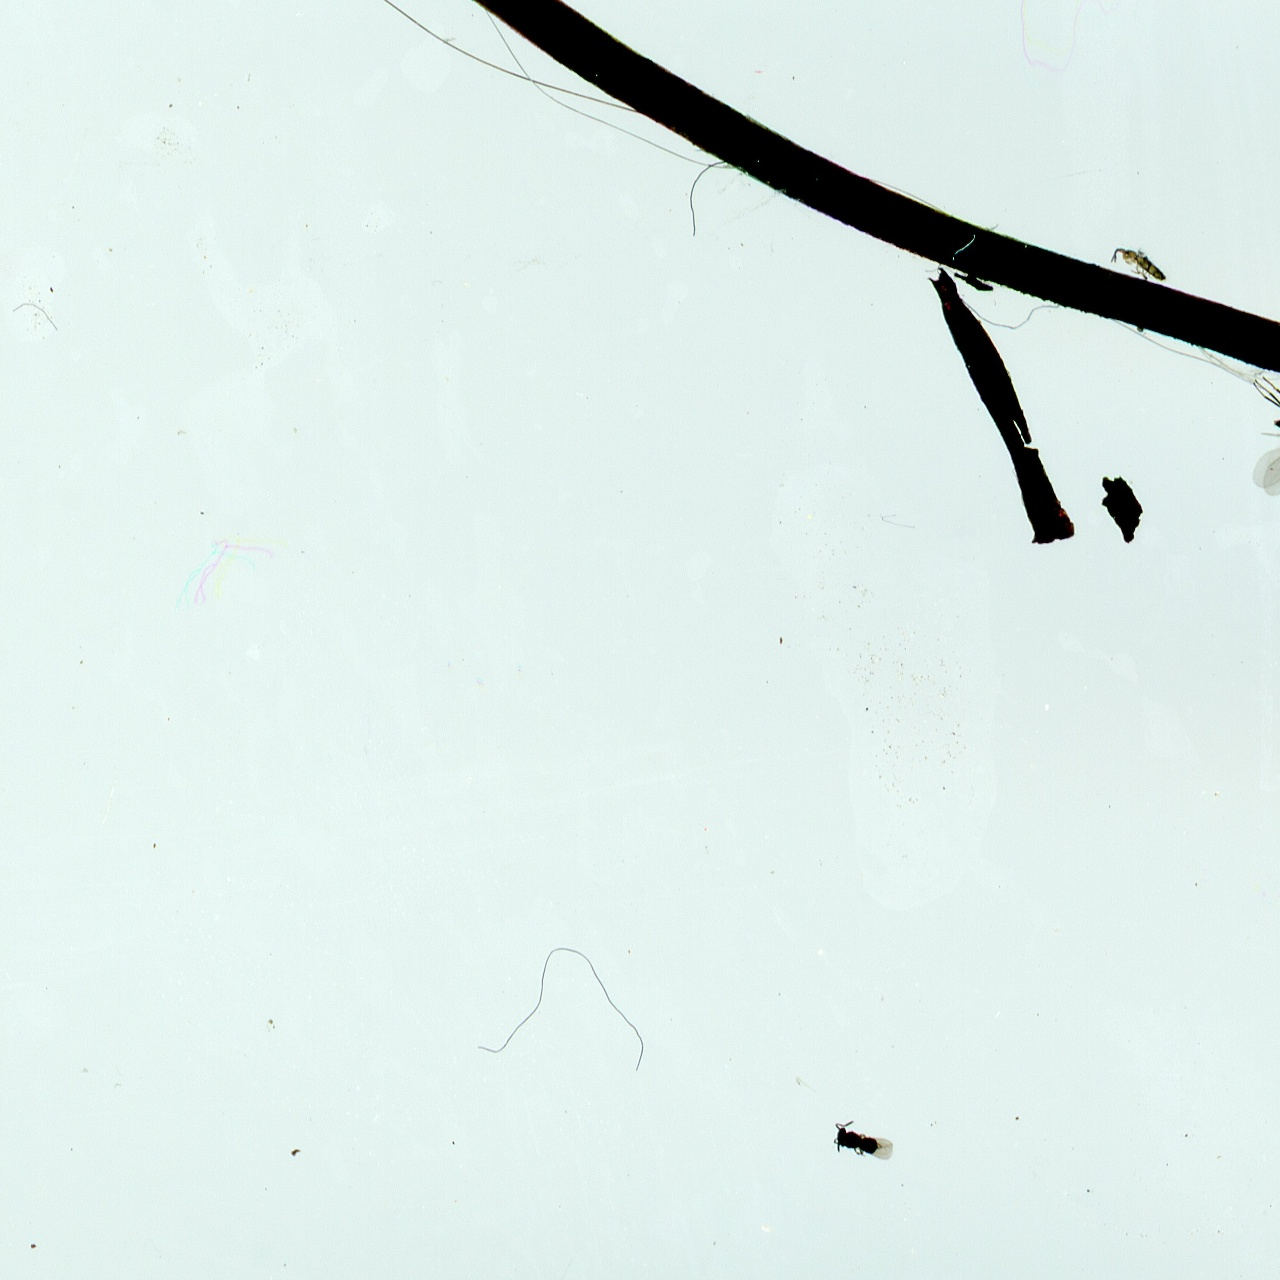arthropod: (1246, 369, 1280, 500), (830, 1112, 896, 1159), (1107, 243, 1168, 281)
